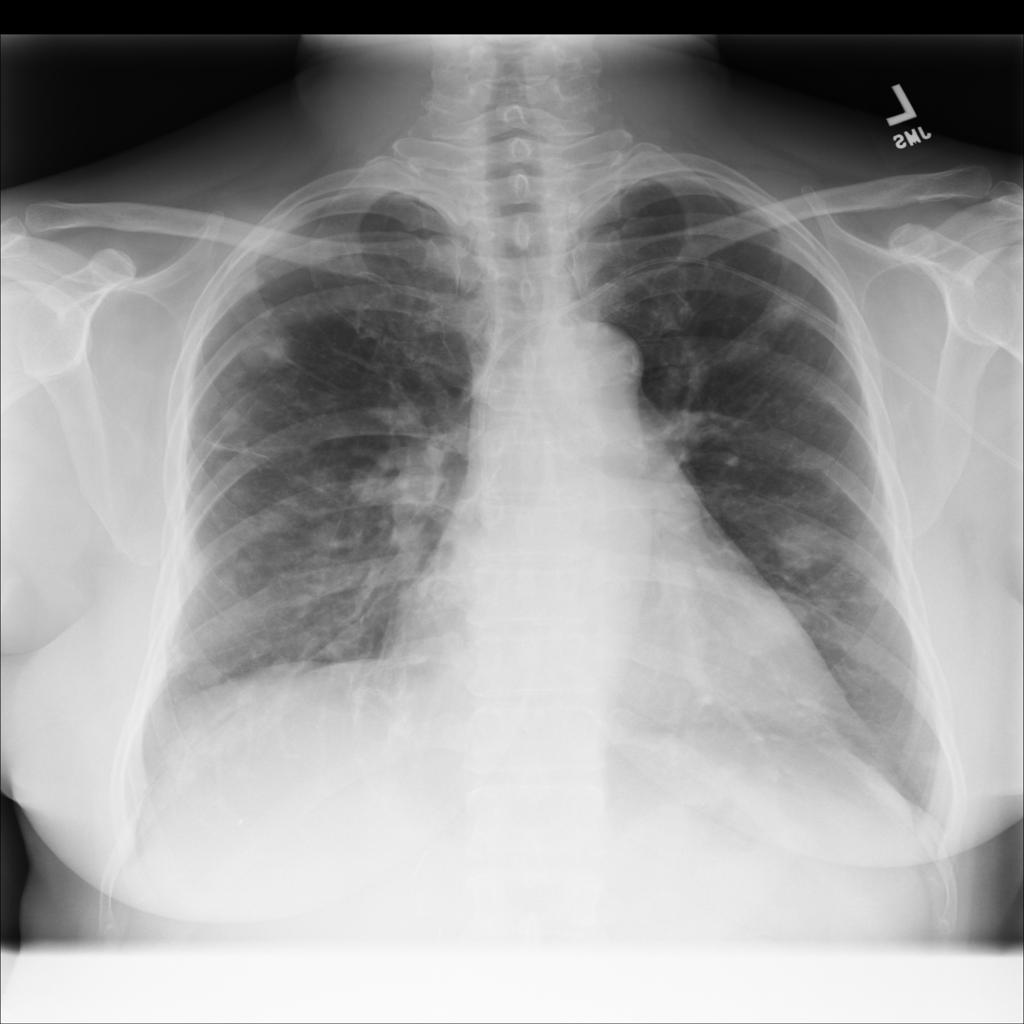nodule: (714, 590, 809, 656), (761, 509, 845, 582), (222, 314, 309, 376), (752, 275, 826, 344), (775, 427, 855, 489), (305, 514, 362, 563), (182, 650, 238, 698), (847, 569, 902, 616), (200, 401, 260, 444), (213, 473, 266, 520), (204, 556, 258, 602), (246, 494, 301, 539), (290, 458, 342, 505), (233, 259, 289, 302)
